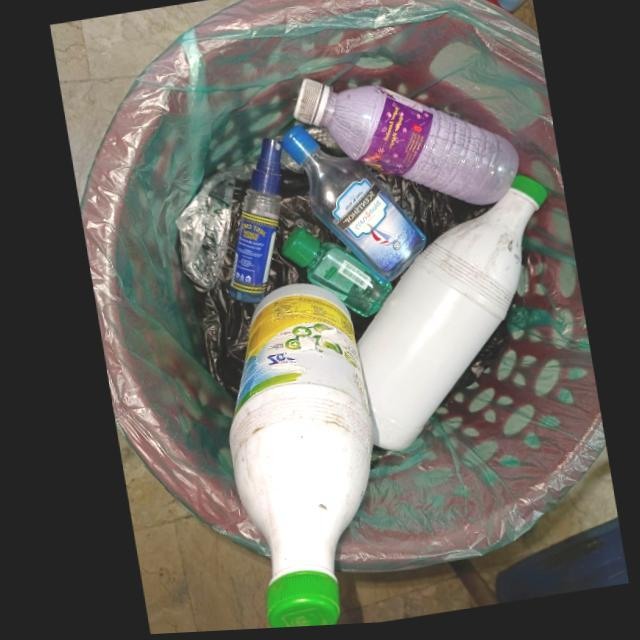plastic: (352, 178, 546, 455), (222, 283, 370, 631), (291, 81, 517, 210), (280, 127, 423, 286), (277, 230, 389, 320), (224, 139, 279, 305)
